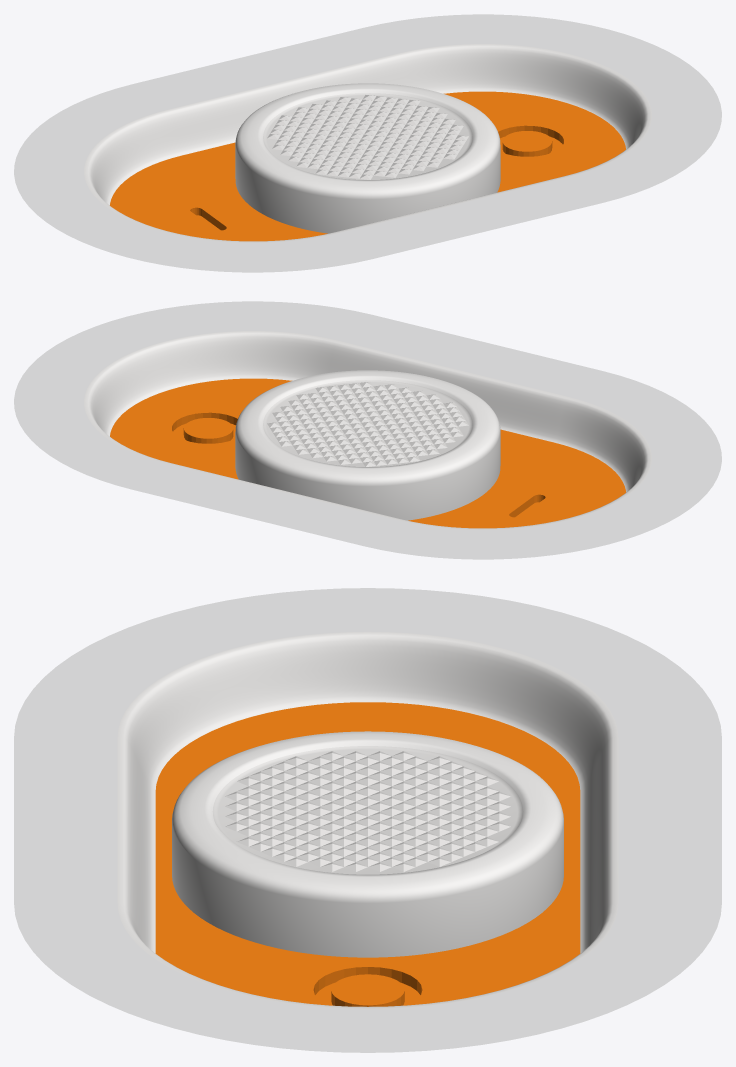
The model's file is switch.glb.
The picture shows the model from 3 angles, top to bottom: view 1: azimuth 30°, elevation 25°; view 2: azimuth 150°, elevation 25°; view 3: azimuth 270°, elevation 25°; orthographic projection. The views are drawn at different scales.
Parts seen in each view (by area): view 1: Base, Knob; view 2: Base, Knob; view 3: Base, Knob.
Boxes of the visible parts, box(x1,y1,x2,y2) form: Base: box(14, 14, 721, 272); Knob: box(235, 83, 500, 233); Base: box(14, 301, 721, 559); Knob: box(235, 370, 500, 520); Base: box(14, 588, 721, 1052); Knob: box(172, 731, 563, 957).
Size of the model in its own units: 4.04 by 0.315 by 2.6.
